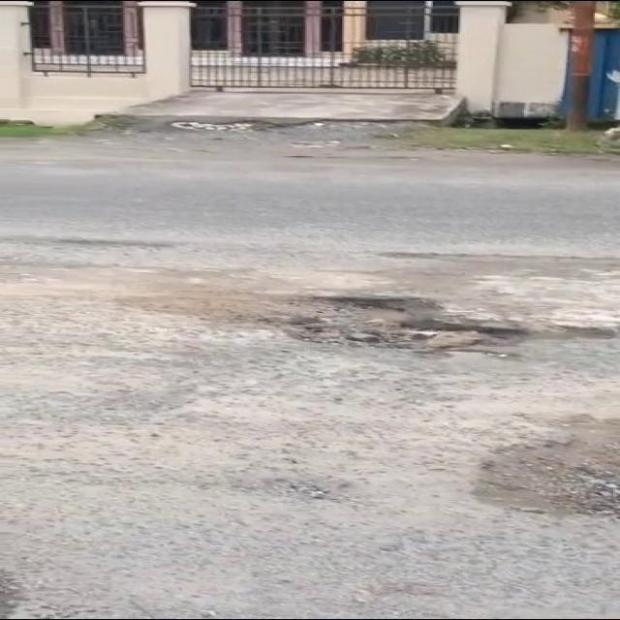lubang: (259, 294, 528, 356), (475, 417, 619, 519)
